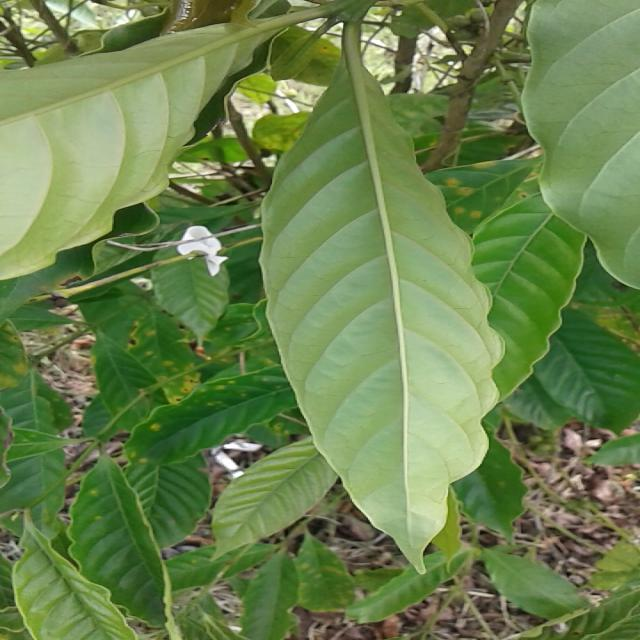Sanas: (259, 22, 543, 574)
